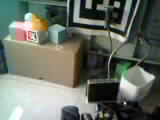duck: (17, 6, 50, 35)
